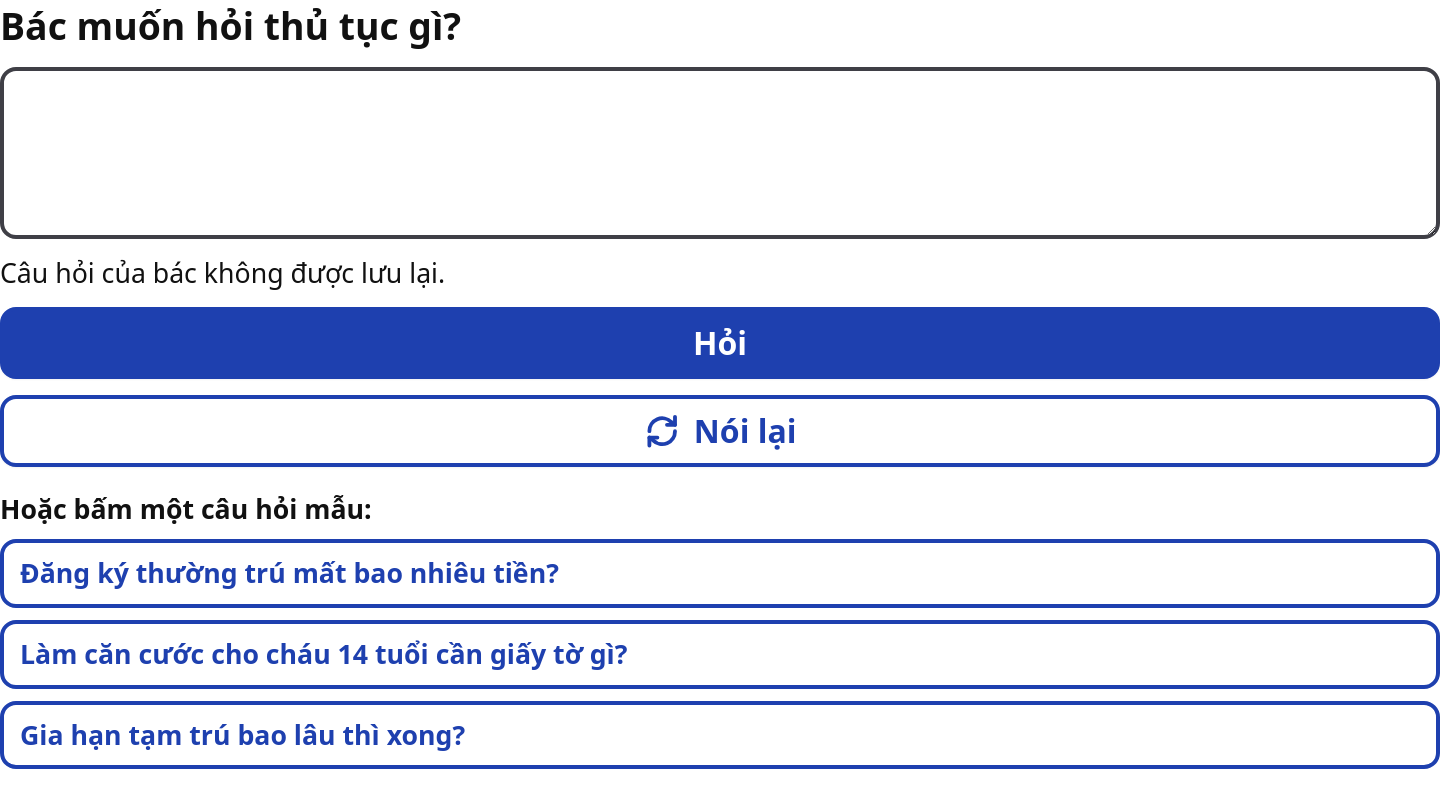
Test: AskScreen — hỏi và trả lời › câu hỏi rỗng thì không gửi, nhắc nhẹ
Step 1. Click the button with test id "ask-submit" → (720, 343), box [0,307,1439,379]
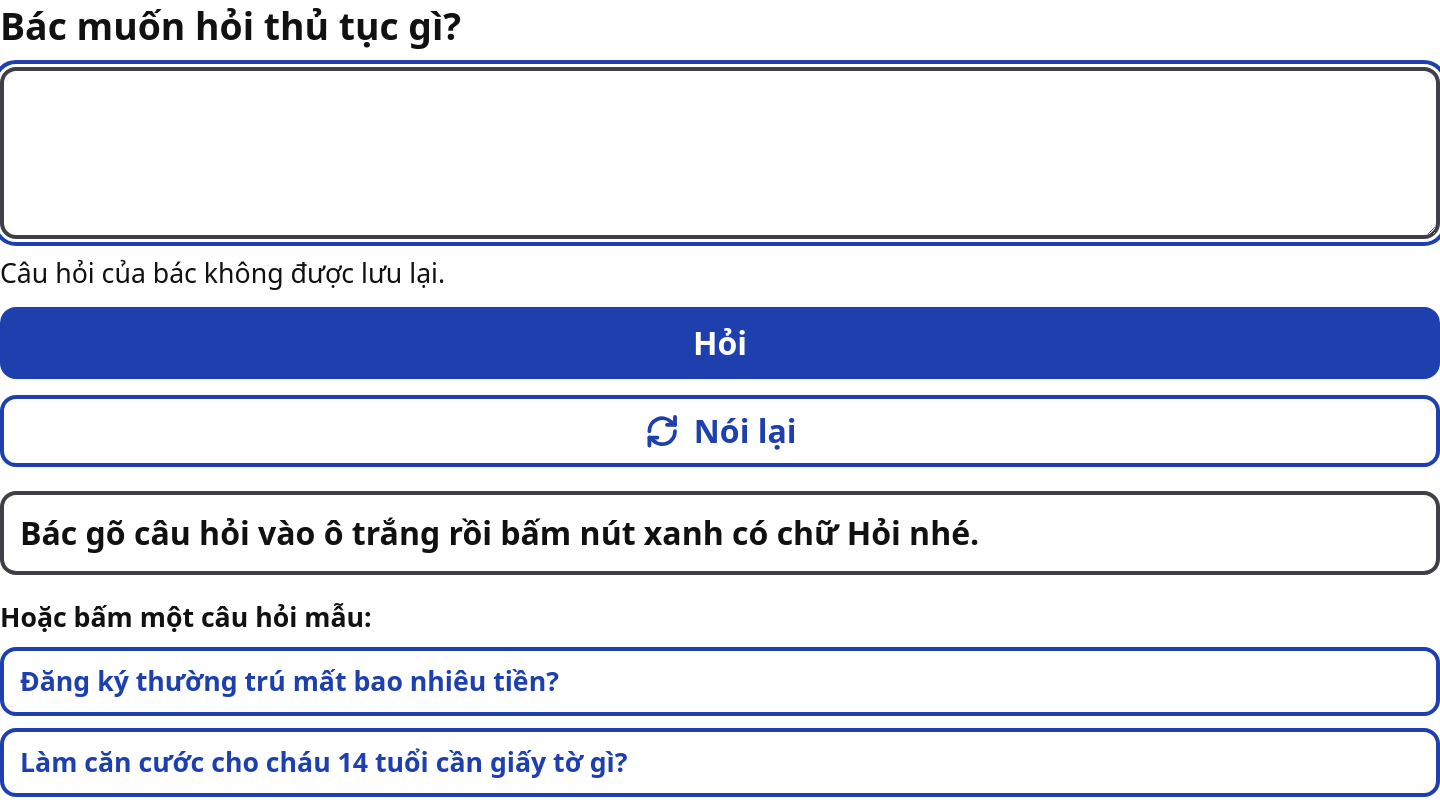
Now the text "Bác gõ câu hỏi vào ô trắng rồi bấm nút xanh có chữ Hỏi nhé." is shown, box [0,491,1439,575]
